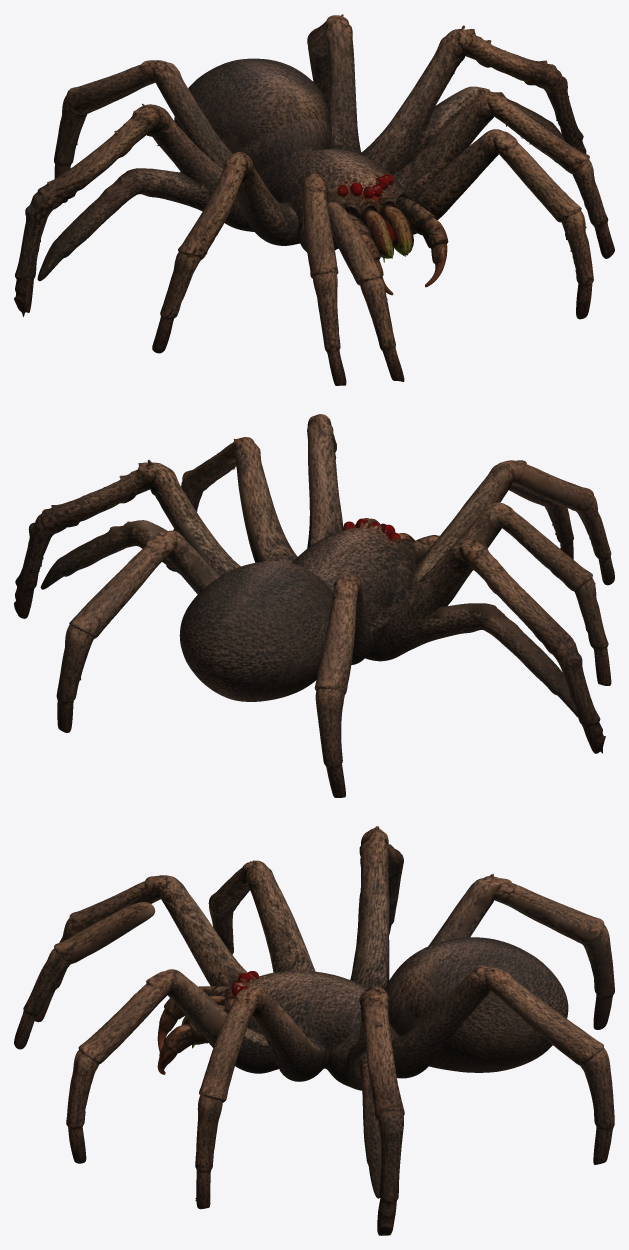
File: enemy_beast_giant_spider_01.glb
3 renders of one model, top to bottom at view 1: azimuth 30°, elevation 25°; view 2: azimuth 150°, elevation 25°; view 3: azimuth 270°, elevation 25°, orthographic. The views are drawn at different scales.
Parts seen in each view (by area): view 1: material; view 2: material; view 3: material.
Part boxes in pixels (x1=…): material: x1=14, y1=14, x2=614, y2=385; material: x1=14, y1=414, x2=614, y2=797; material: x1=14, y1=826, x2=614, y2=1235.
Bounding box in the file's own units: 1.14 × 0.3507 × 0.9962.
Materials: 1 (1 with a texture image).
